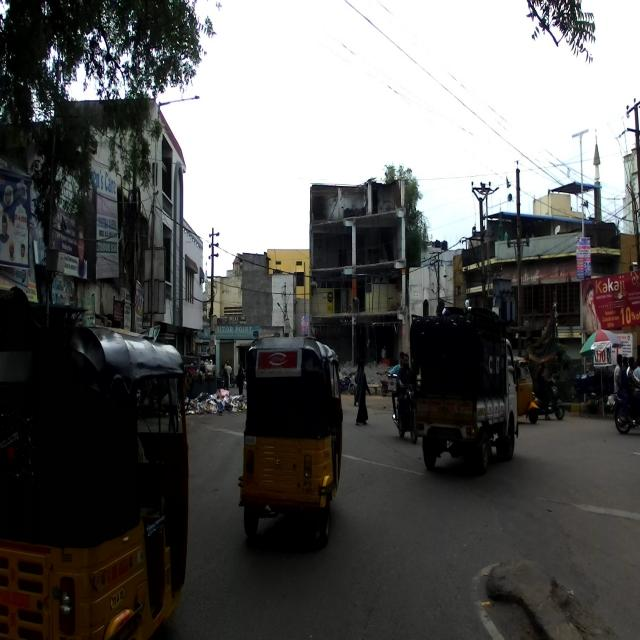autorickshaw: (0, 322, 194, 639), (238, 334, 344, 547)
truck: (410, 298, 521, 478)
